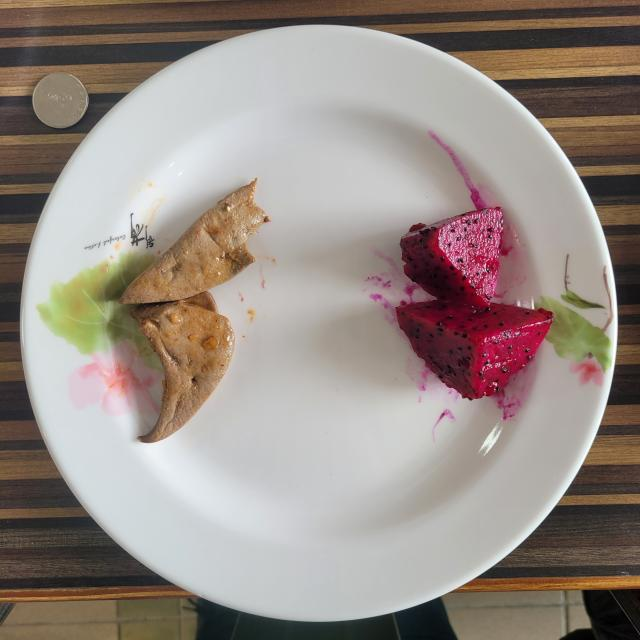coin: (32, 72, 89, 129)
pig liver: (119, 179, 270, 442)
